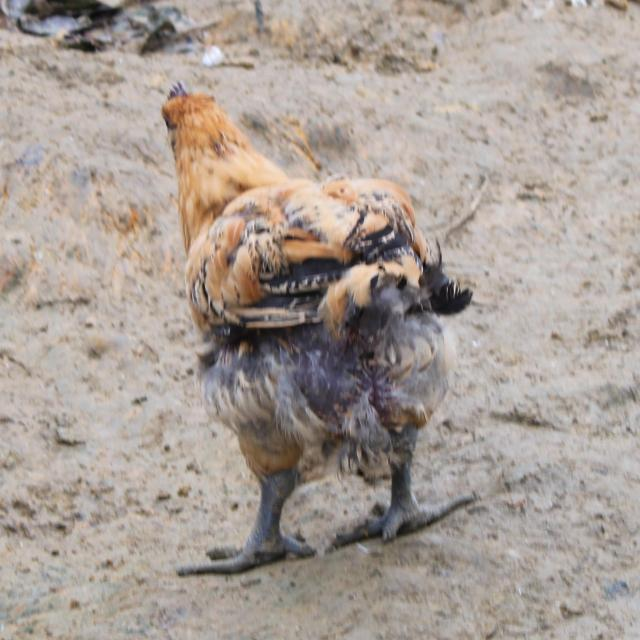hen: (162, 76, 480, 576)
